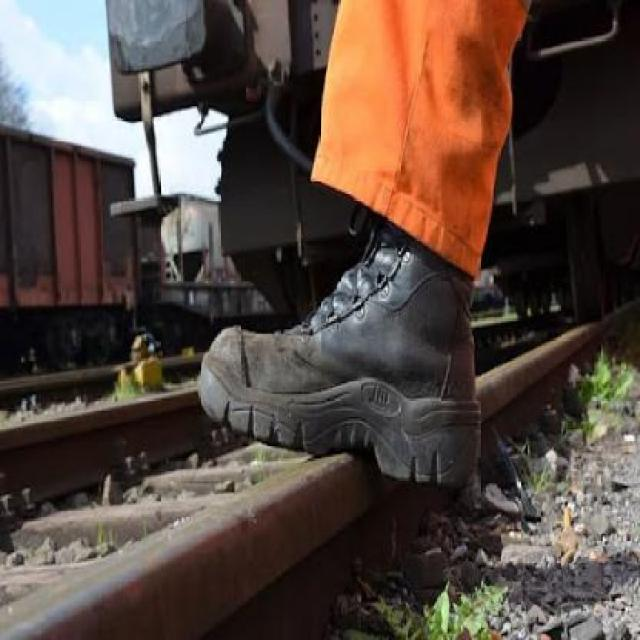shoes: (186, 204, 505, 518)
